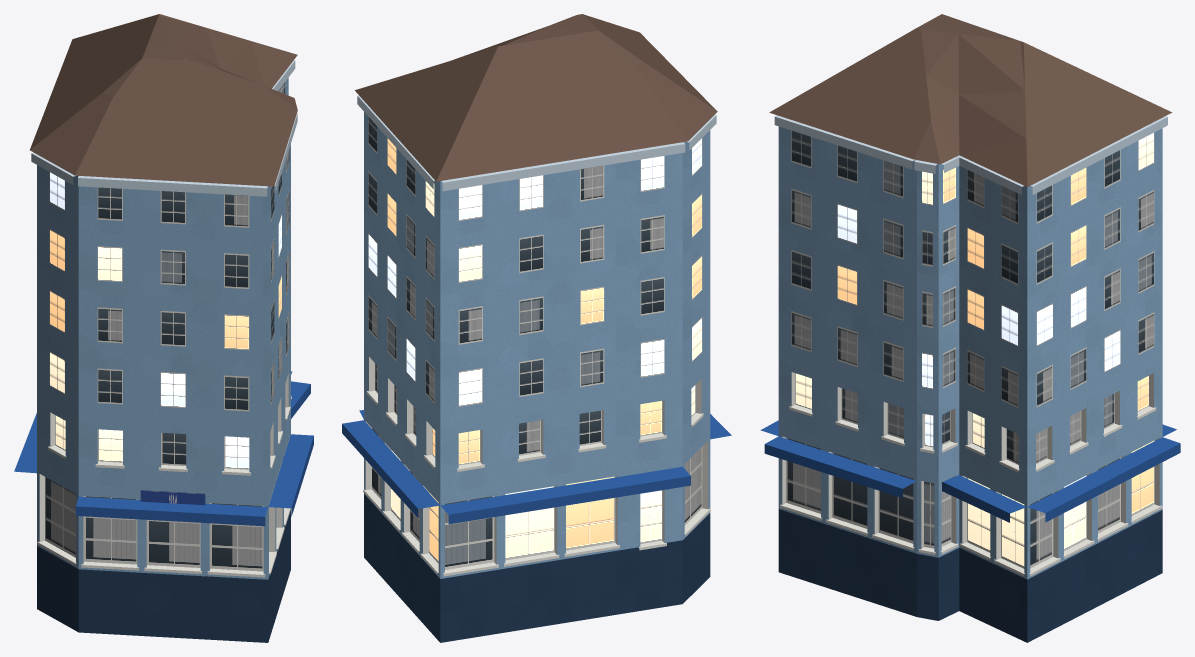
Rendered from langC_midway.glb.
3 views of the same model, side by side, from view 1: azimuth 30°, elevation 25°; view 2: azimuth 150°, elevation 25°; view 3: azimuth 270°, elevation 25° (orthographic).
Parts seen in each view (by area): view 1: langC_midway; view 2: langC_midway; view 3: langC_midway.
Part boxes in pixels (x1,y1,x2,y2): langC_midway: (14,14,313,642); langC_midway: (342,14,731,642); langC_midway: (760,14,1180,642).
Size of the model in its own units: 15.53 by 25.47 by 18.07.
Materials: 3 (3 with a texture image).
